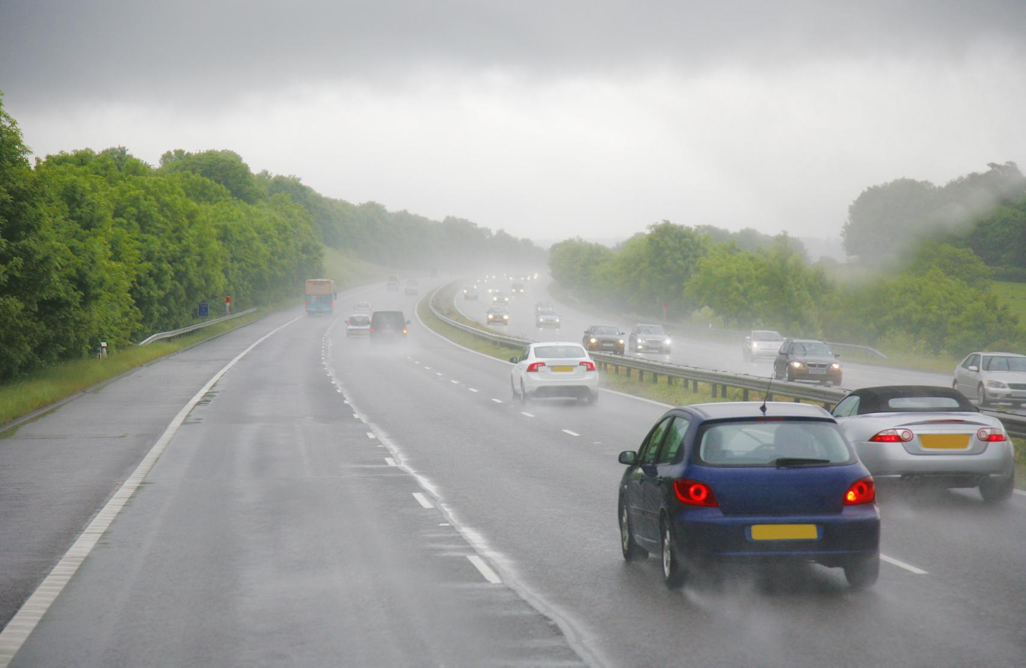bus: (305, 278, 335, 318)
car: (613, 398, 885, 593), (792, 383, 1020, 506), (511, 341, 602, 406), (951, 351, 1026, 408), (773, 338, 844, 386), (366, 309, 412, 349), (742, 330, 790, 363), (581, 323, 627, 357), (629, 323, 672, 355), (344, 315, 375, 339), (535, 310, 562, 329), (485, 308, 510, 327), (533, 301, 555, 318), (353, 301, 373, 319), (463, 284, 480, 301), (492, 292, 510, 307), (510, 284, 527, 297), (405, 283, 420, 296), (386, 282, 399, 293)
